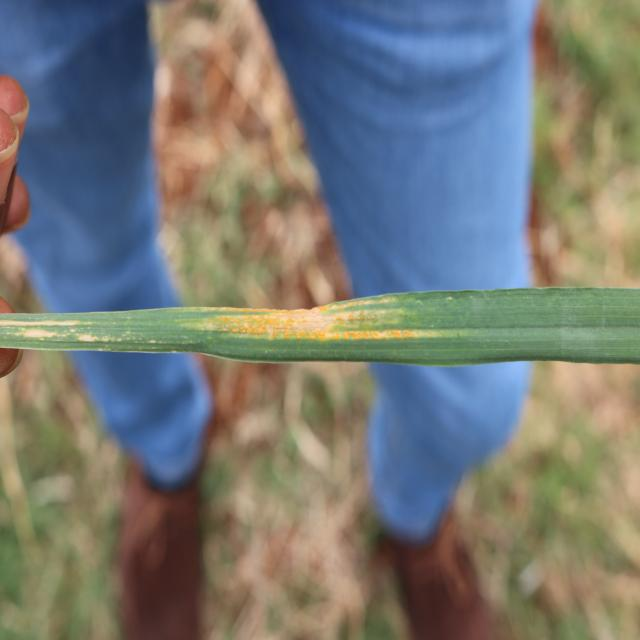Stripe Rust: (196, 310, 408, 340)
